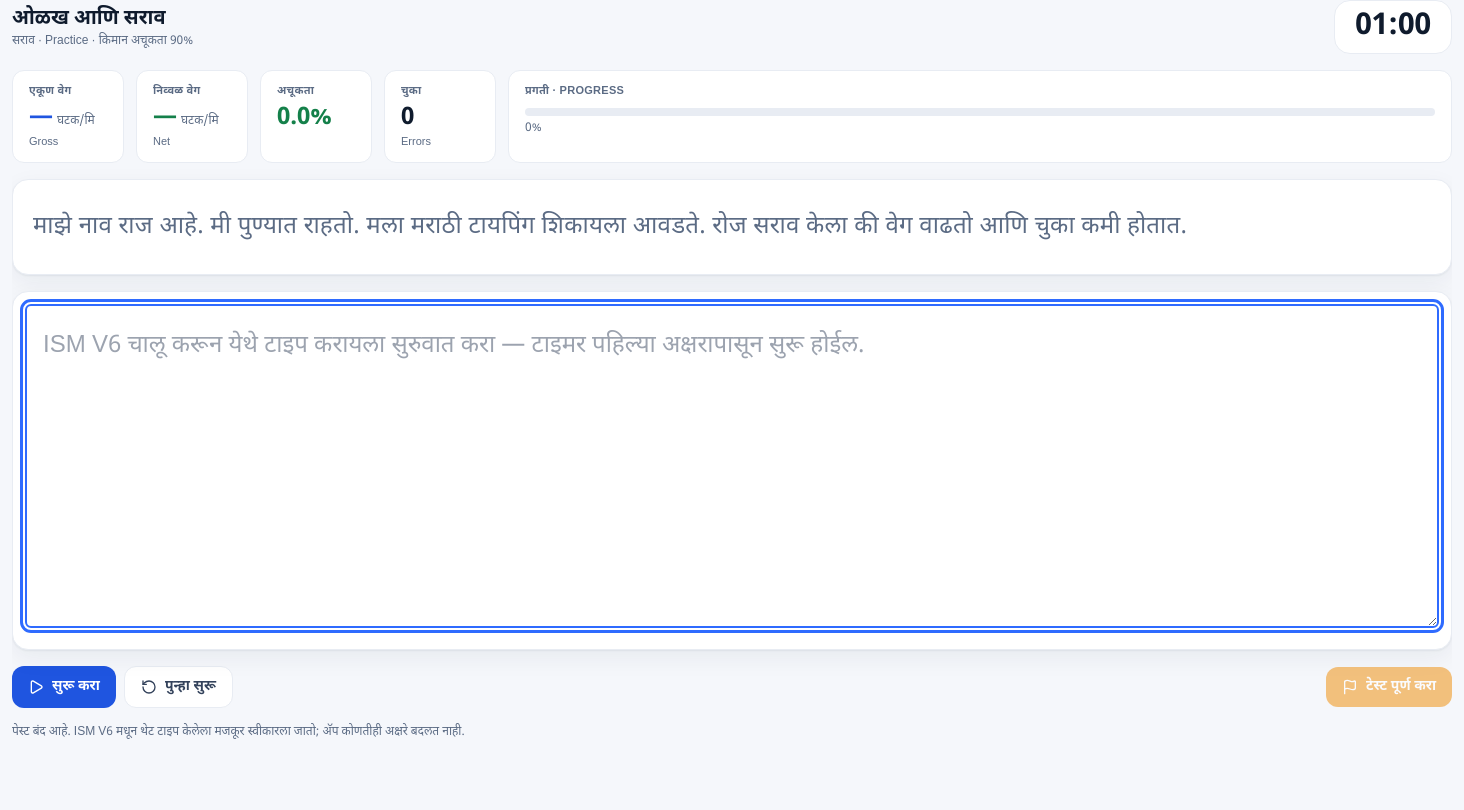
Test: typing workspace › timer starts on first character and the finish button enables
Check: the button with test id "finish" is disabled, box x1=1326 y1=667 x2=1452 y2=707
Replace the text in the text box with test id "typing-area" with "म": [732, 466] box x1=25 y1=304 x2=1439 y2=628
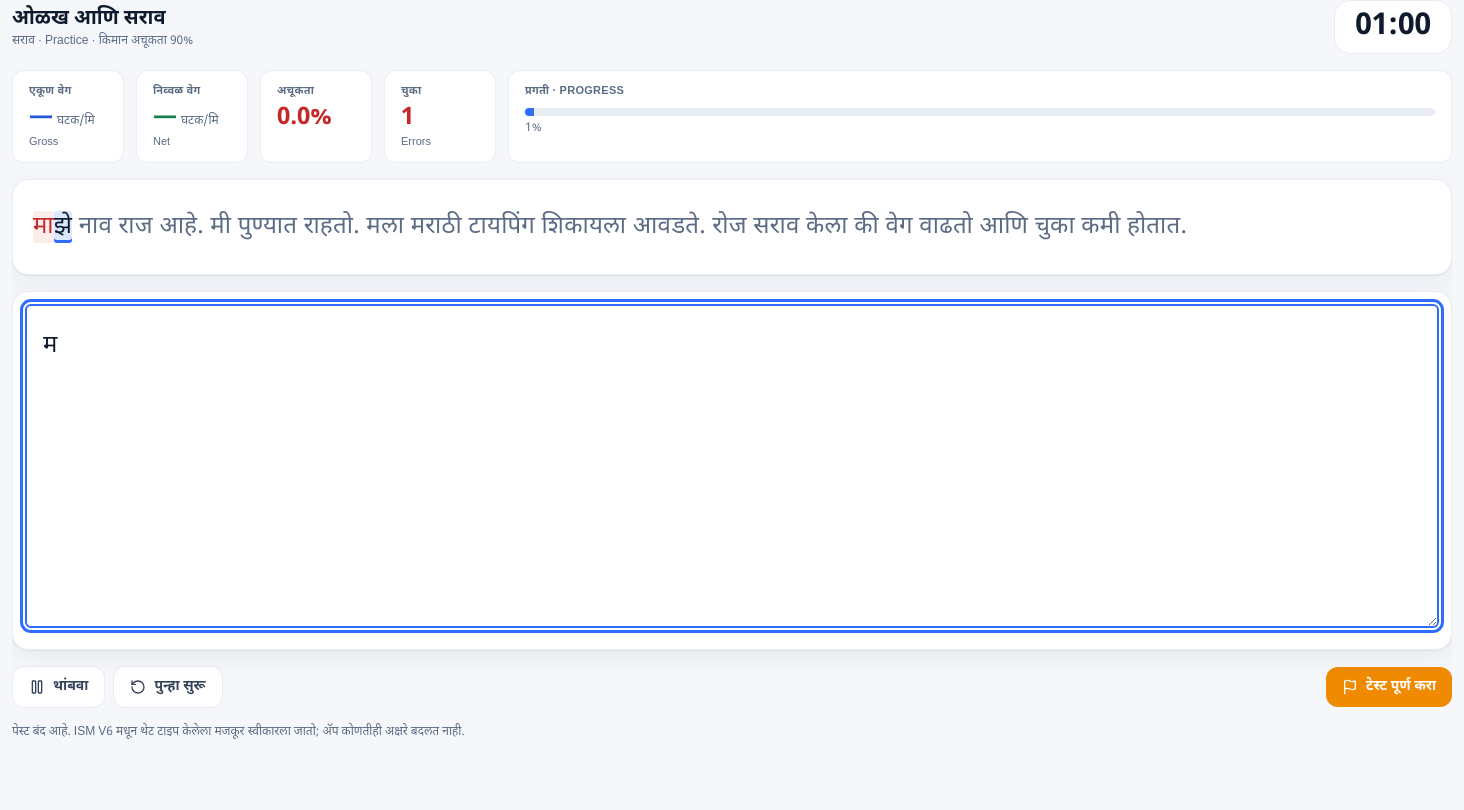
Check: the button with test id "finish" is enabled, box x1=1326 y1=667 x2=1452 y2=707
